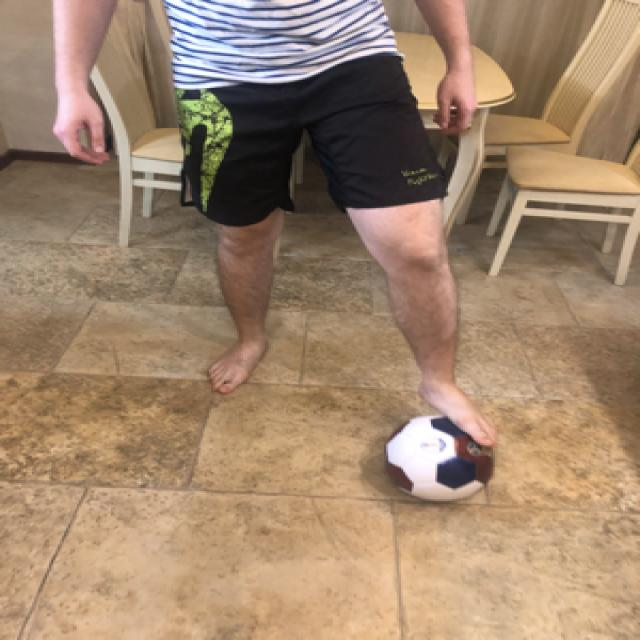soccer_ball: (378, 412, 495, 502)
